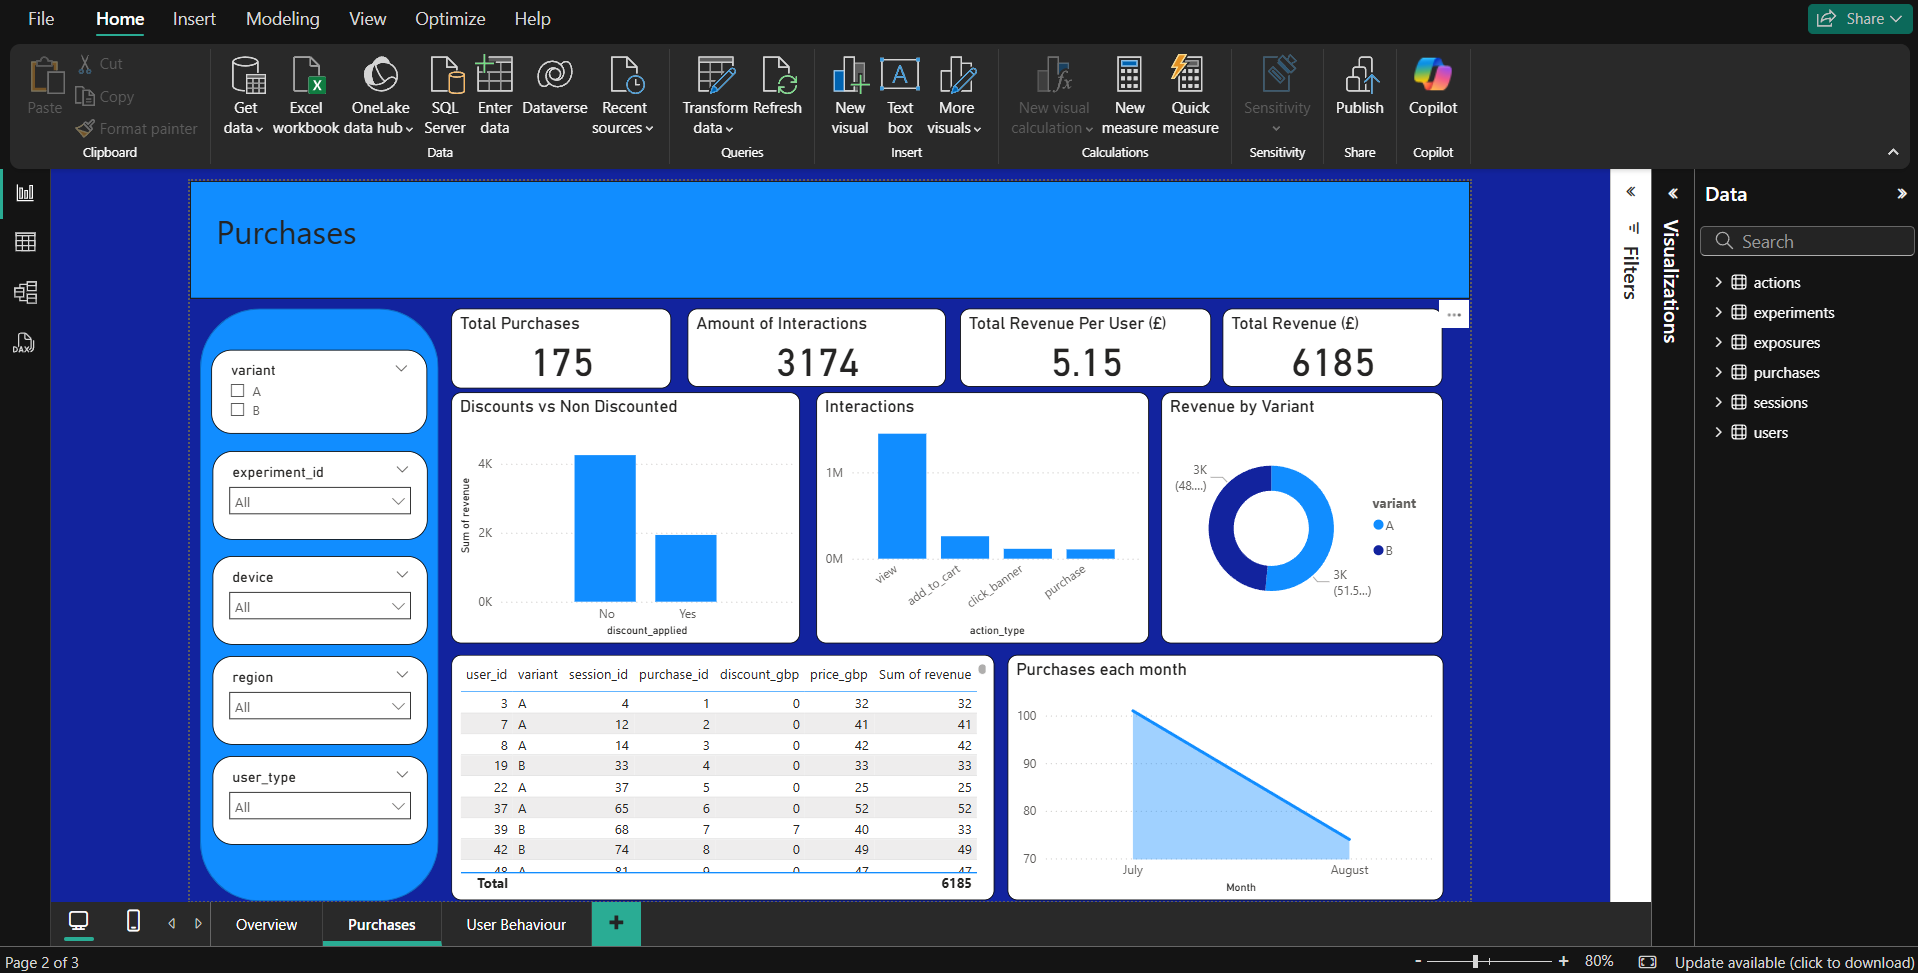

Layout of this report page (visuals, bound fields, positions):
{"tool":"powerbi","page":{"name":"Purchases","canvas":[1280,720],"ordinal":1},"visuals":[{"type":"areaChart","title":"Purchases each month","fields":{"Category":["purchases.purchase_ts.Variation.Date Hierarchy.Month","purchases.purchase_ts.Variation.Date Hierarchy.Day"],"Y":["Count(purchases.purchase_id)"]},"box":[817.1,474.3,435.7,245.7],"z":0},{"type":"card","title":"Total Revenue (£)","fields":{"Values":["actions.Total Revenue"]},"box":[1032.9,127.1,220,78.6],"z":1000},{"type":"card","title":"Total Purchases","fields":{"Values":["Count(purchases.purchase_id)"]},"box":[261.4,127.1,220,80],"z":2000},{"type":"card","title":"Total Revenue Per User (£)","fields":{"Values":["actions.Revenue per User"]},"box":[770,127.1,251.4,78.6],"z":3000},{"type":"card","title":"Amount of Interactions","fields":{"Values":["CountNonNull(actions.session_id)"]},"box":[497.1,127.1,258.6,78.6],"z":4000},{"type":"donutChart","title":"Revenue by Variant","fields":{"Category":["exposures.variant"],"Y":["Sum(purchases.revenue)"]},"box":[971.4,211.4,281.4,251.4],"z":5000},{"type":"clusteredColumnChart","title":"Discounts vs Non Discounted","fields":{"Y":["Sum(purchases.revenue)"],"Category":["purchases.discount_applied"]},"box":[261.4,211.4,348.6,251.4],"z":6000},{"type":"columnChart","title":"Interactions","fields":{"Category":["actions.action_type"],"Y":["Sum(actions.sessions.user_id)"]},"box":[625.7,211.4,332.9,251.4],"z":7000},{"type":"shape","box":[10,127.1,238.6,592.9],"z":8000},{"type":"slicer","fields":{"Values":["exposures.variant"]},"box":[21.4,168.6,215.7,84.3],"z":9000},{"type":"slicer","fields":{"Values":["exposures.experiment_id"]},"box":[22,270.3,215.4,89.2],"z":10000},{"type":"slicer","fields":{"Values":["users.device"]},"box":[22,374.6,215.4,89.2],"z":11000},{"type":"slicer","fields":{"Values":["users.region"]},"box":[22,474.8,215.4,89.2],"z":12000},{"type":"slicer","fields":{"Values":["users.user_type"]},"box":[22,575,215.4,89.2],"z":13000},{"type":"shape","box":[0,0,1280,117.1],"z":14000},{"type":"textbox","box":[21.4,24.3,560,92.9],"z":15000},{"type":"tableEx","fields":{"Values":["users.user_id","exposures.variant","purchases.session_id","purchases.purchase_id","purchases.discount_gbp","purchases.price_gbp","Sum(purchases.revenue)"]},"box":[261.4,474.3,542.9,245.7],"z":16000}]}

Visuals, with their boxes on the page's 1280x720 design canvas (x1, y1, x2, y2). These are canvas units, not pixel positions in the 1918x973 screenshot, which may show the page scaled, cropped or inside an application window:
"Purchases each month" areaChart: <bbox>817, 474, 1253, 720</bbox>
"Total Revenue (£)" card: <bbox>1033, 127, 1253, 206</bbox>
"Total Purchases" card: <bbox>261, 127, 481, 207</bbox>
"Total Revenue Per User (£)" card: <bbox>770, 127, 1021, 206</bbox>
"Amount of Interactions" card: <bbox>497, 127, 756, 206</bbox>
"Revenue by Variant" donutChart: <bbox>971, 211, 1253, 463</bbox>
"Discounts vs Non Discounted" clusteredColumnChart: <bbox>261, 211, 610, 463</bbox>
"Interactions" columnChart: <bbox>626, 211, 959, 463</bbox>
shape: <bbox>10, 127, 249, 720</bbox>
slicer - exposures.variant: <bbox>21, 169, 237, 253</bbox>
slicer - exposures.experiment_id: <bbox>22, 270, 237, 360</bbox>
slicer - users.device: <bbox>22, 375, 237, 464</bbox>
slicer - users.region: <bbox>22, 475, 237, 564</bbox>
slicer - users.user_type: <bbox>22, 575, 237, 664</bbox>
shape: <bbox>0, 0, 1280, 117</bbox>
textbox: <bbox>21, 24, 581, 117</bbox>
tableEx - users.user_id x exposures.variant: <bbox>261, 474, 804, 720</bbox>
